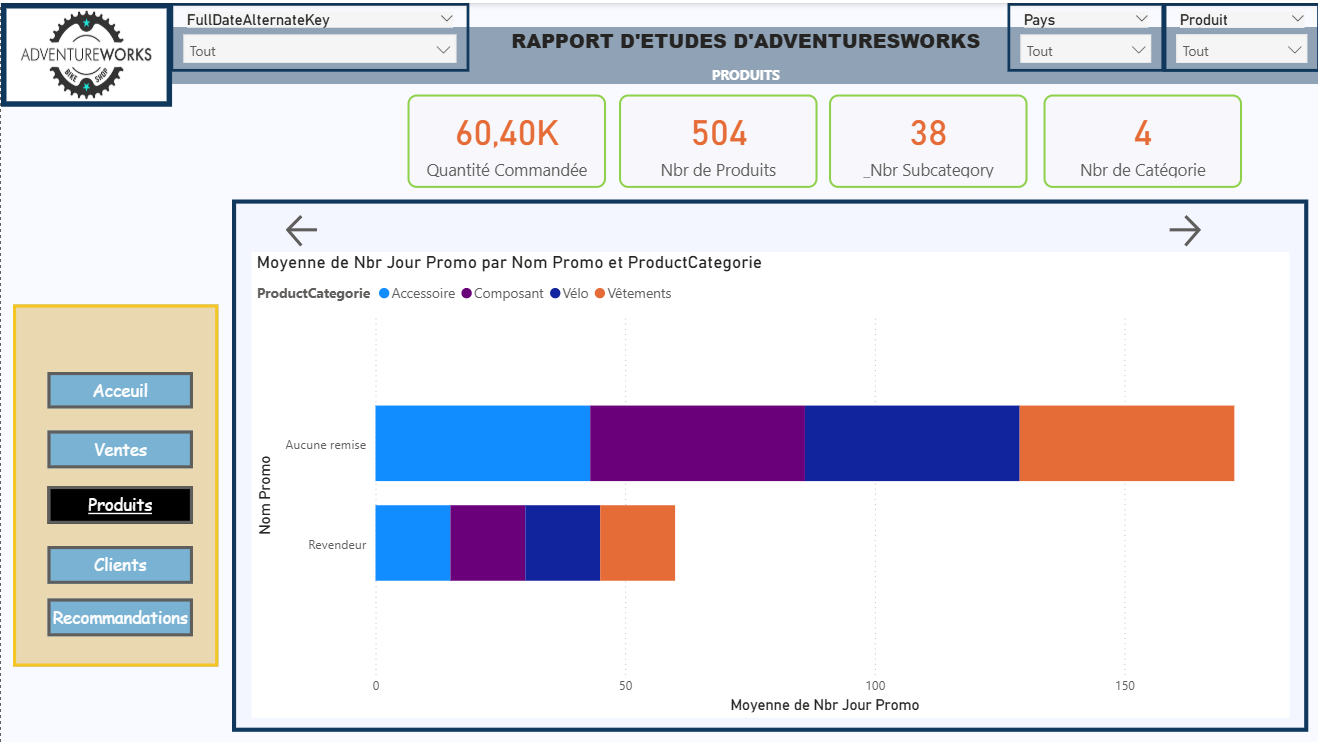

The page's visual inventory and layout, read from the dashboard file:
{"tool":"powerbi","page":{"name":"Produit 2","canvas":[1280,720],"ordinal":5},"visuals":[{"type":"image","box":[0,0,165.9,100.4],"z":0},{"type":"shape","box":[223.5,191.1,1044.4,516.5],"z":1000},{"type":"textbox","title":"RAPPORT D''ETUDES D''ADVENTURESWORKS ","box":[165.9,23.3,1113.5,55.3],"z":2000},{"type":"shape","box":[11.3,293.1,199.2,351.4],"z":2000,"group":"g1"},{"type":"card","fields":{"Values":["FactInternetSales._Order_Quantity"]},"box":[395.1,89.1,192.7,90.7],"z":3000},{"type":"card","fields":{"Values":["DimProduct._NbrProduct"]},"box":[599.1,89.1,192.7,90.7],"z":4000},{"type":"actionButton","box":[45.5,415.6,141.2,36.7],"z":4000,"group":"g1"},{"type":"card","fields":{"Values":["DimProductCategory._Nbr categorie"]},"box":[1012,89.1,192.7,90.7],"z":5000},{"type":"actionButton","box":[45.5,358.4,141.2,35.4],"z":5000,"group":"g1"},{"type":"card","fields":{"Values":["DimProductSubcategory._Nbr Subcategory"]},"box":[803.1,89.1,192.7,90.7],"z":6000},{"type":"actionButton","box":[45.5,468.7,141.2,36.7],"z":6000,"group":"g1"},{"type":"slicer","fields":{"Values":["DimGeography.City"]},"box":[1128.6,0,152.2,66.4],"z":7000},{"type":"actionButton","box":[45.5,527.2,141.2,36.7],"z":7000,"group":"g1"},{"type":"slicer","fields":{"Values":["DimGeography.FrenchCountryRegionName"]},"box":[976.4,0,152.2,66.4],"z":8000},{"type":"actionButton","box":[45.5,578.9,141.2,36.7],"z":8000,"group":"g1"},{"type":"slicer","fields":{"Values":["DimProduct.FrenchProductName"]},"box":[1127.8,0,152.2,66.4],"z":9000},{"type":"slicer","fields":{"Values":["DimDate.FullDateAlternateKey.Variation.Hiérarchie de dates.Année"]},"box":[165.2,0,289.8,66.4],"z":10000},{"type":"barChart","fields":{"Category":["DimPromotion.FrenchPromotionCategory"],"Y":["Avg(DimPromotion.Nbr Jour Promo)"],"Series":["DimProductCategory.FrenchProductCategoryName"]},"box":[242.9,241.3,1007.2,451.8],"z":11000},{"type":"group","id":"g1","title":"Groupe 1","box":[11.3,293.1,199.2,351.4],"z":12000},{"type":"actionButton","box":[1128.6,200.8,100.4,40.5],"z":13000},{"type":"actionButton","box":[272,200.8,100.4,40.5],"z":14000}]}

Visuals, with their boxes in screenshot pixels (x1, y1, x2, y2), scaled from the page's 1280x720 canvas onto the 1318x742 screenshot:
image: 0,0,171,103
shape: 230,197,1306,729
"RAPPORT D''ETUDES D''ADVENTURESWORKS " textbox: 171,24,1317,81
shape: 12,302,217,664
card - FactInternetSales._Order_Quantity: 407,92,605,185
card - DimProduct._NbrProduct: 617,92,815,185
actionButton: 47,428,192,466
card - DimProductCategory._Nbr categorie: 1042,92,1240,185
actionButton: 47,369,192,406
card - DimProductSubcategory._Nbr Subcategory: 827,92,1025,185
actionButton: 47,483,192,521
slicer - DimGeography.City: 1162,0,1317,68
actionButton: 47,543,192,581
slicer - DimGeography.FrenchCountryRegionName: 1005,0,1162,68
actionButton: 47,597,192,634
slicer - DimProduct.FrenchProductName: 1161,0,1317,68
slicer - DimDate.FullDateAlternateKey.Variation.Hiérarchie de dates.Année: 170,0,469,68
barChart - DimPromotion.FrenchPromotionCategory x Avg(DimPromotion.Nbr Jour Promo): 250,249,1287,714
"Groupe 1" group: 12,302,217,664
actionButton: 1162,207,1265,249
actionButton: 280,207,383,249
